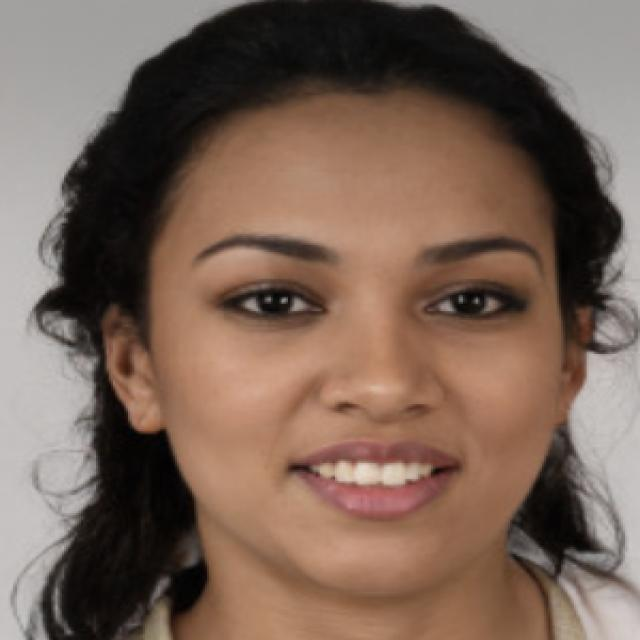happy: (79, 0, 597, 604)
